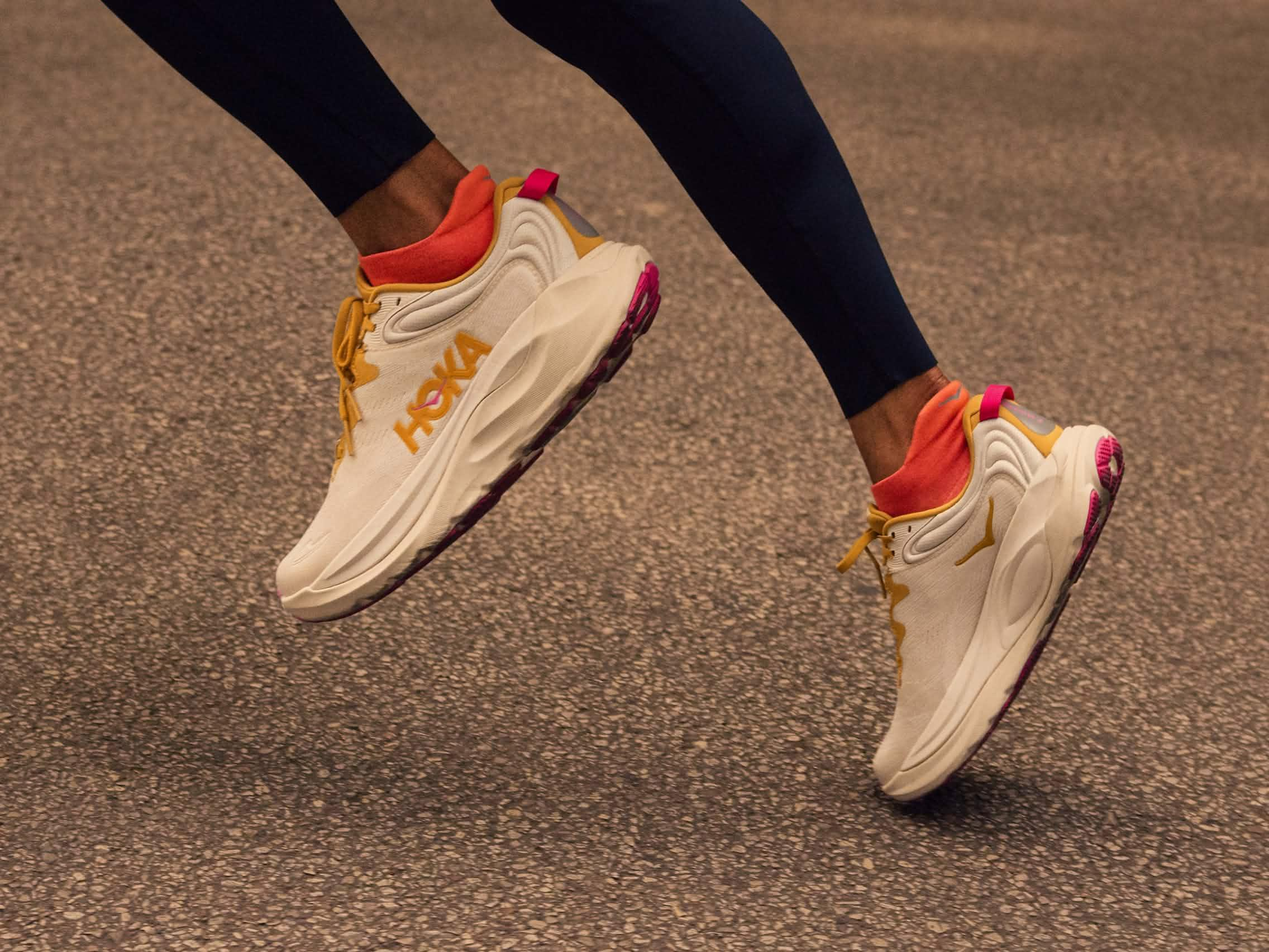hoka logo: (376, 299, 522, 478), (929, 448, 1033, 605)
